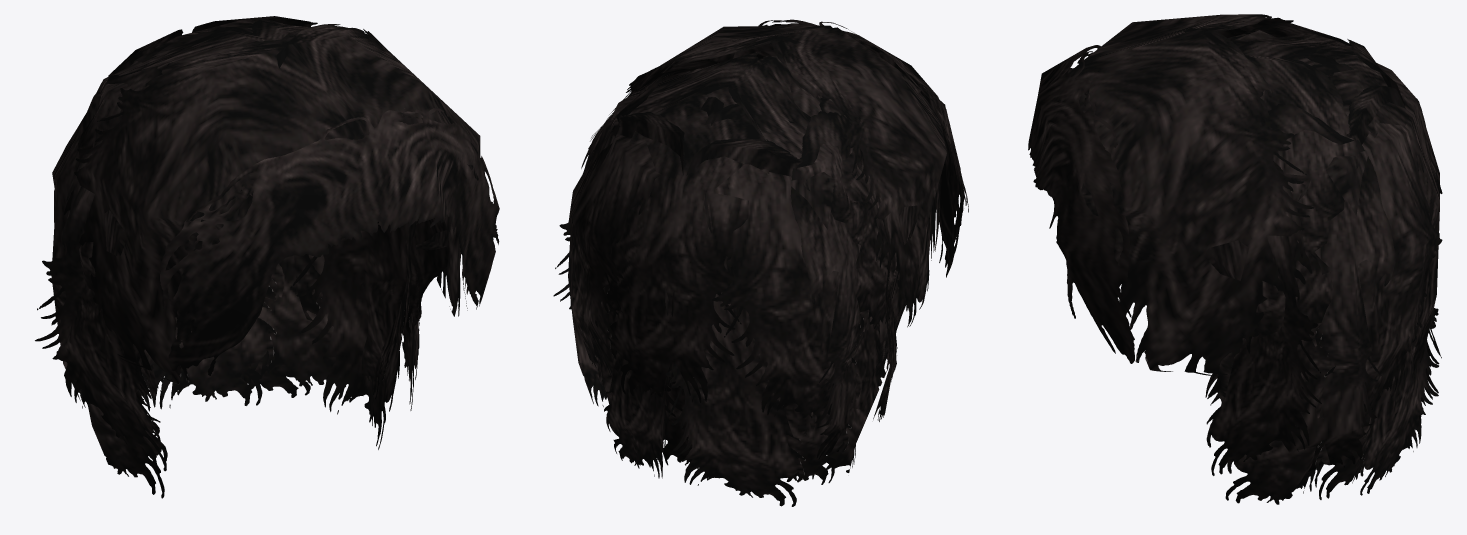
The model's file is hair_007.fbx.
3 views of the same model, side by side, from view 1: azimuth 30°, elevation 25°; view 2: azimuth 150°, elevation 25°; view 3: azimuth 270°, elevation 25° (orthographic). The views are drawn at different scales.
Parts seen in each view (by area): view 1: hair_007; view 2: hair_007; view 3: hair_007.
Part boxes in pixels (x1,y1,x2,y2): hair_007: [35, 16, 499, 498]; hair_007: [553, 19, 968, 506]; hair_007: [1028, 14, 1442, 504].
Bounding box in the file's own units: 23.58 × 25.65 × 23.5.
